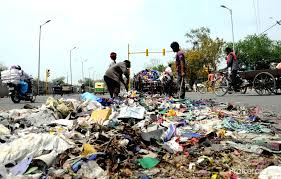garbage: (1, 109, 269, 179), (48, 97, 212, 179)
